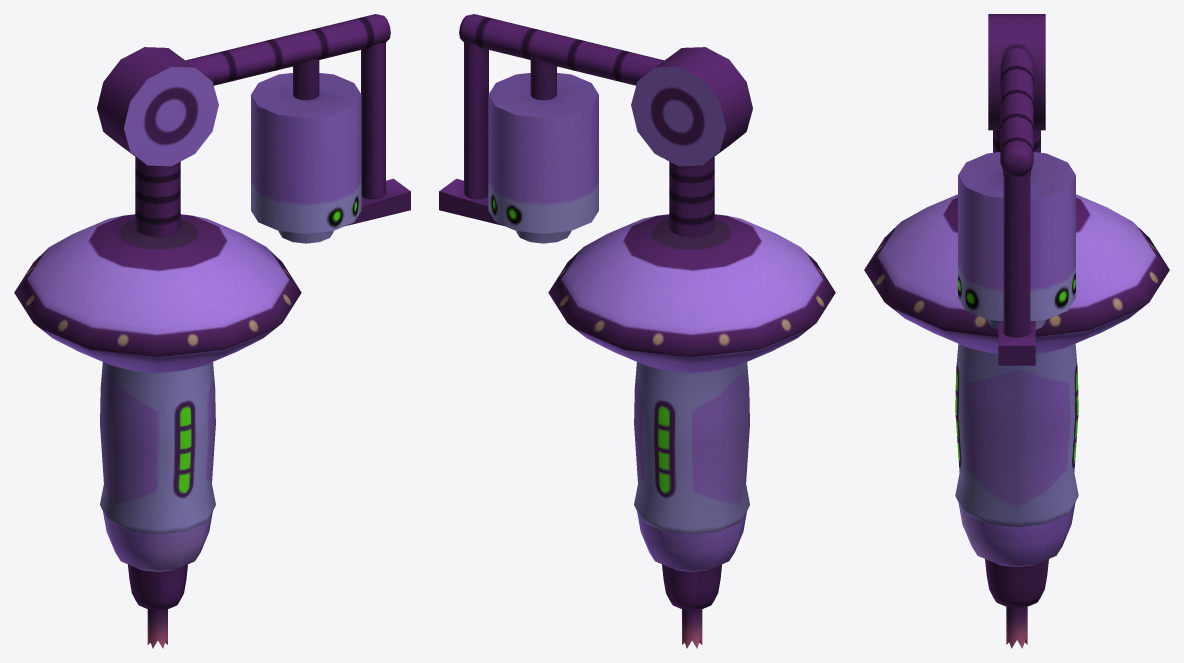
Rendered from SungXam_03_2.fbx.
3 renders of one model, left to right at view 1: azimuth 30°, elevation 25°; view 2: azimuth 150°, elevation 25°; view 3: azimuth 270°, elevation 25°, orthographic. The views are drawn at different scales.
Parts seen in each view (by area): view 1: polySurface4, polySurface3; view 2: polySurface4, polySurface3; view 3: polySurface4, polySurface3.
Part boxes in pixels (left/top/right/bottom): polySurface4: left=14, top=14, right=410, bottom=648; polySurface3: left=251, top=73, right=361, bottom=204; polySurface4: left=439, top=14, right=835, bottom=648; polySurface3: left=488, top=73, right=598, bottom=204; polySurface4: left=864, top=14, right=1169, bottom=648; polySurface3: left=958, top=152, right=1075, bottom=290.
Size of the model in its own units: 17.97 by 27.4 by 12.14.
